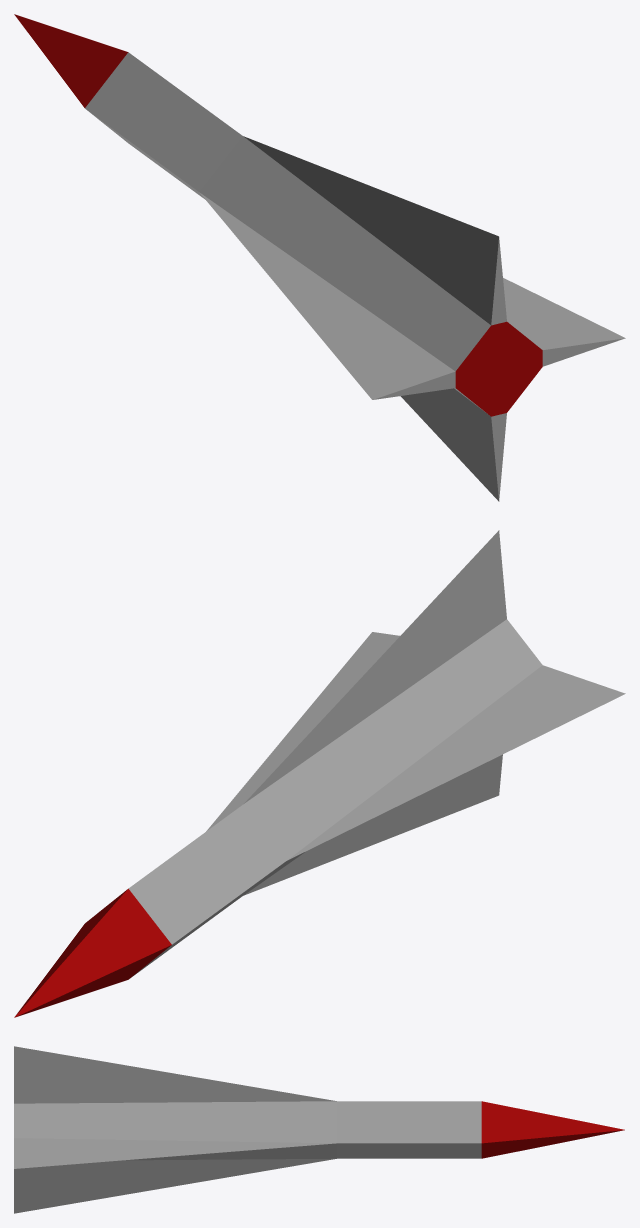
The model's file is missile.glb.
3 views of the same model, one above another, from view 1: azimuth 30°, elevation 25°; view 2: azimuth 150°, elevation 25°; view 3: azimuth 270°, elevation 25° (orthographic). The views are drawn at different scales.
Visible parts, largest first — view 1: Mesh_0; view 2: Mesh_0; view 3: Mesh_0.
Part boxes in pixels (x1,y1,x2,y2): Mesh_0: (14, 14, 625, 501); Mesh_0: (14, 530, 625, 1017); Mesh_0: (14, 1046, 624, 1213).
Size of the model in its own units: 0.6009 by 0.6009 by 1.99.
